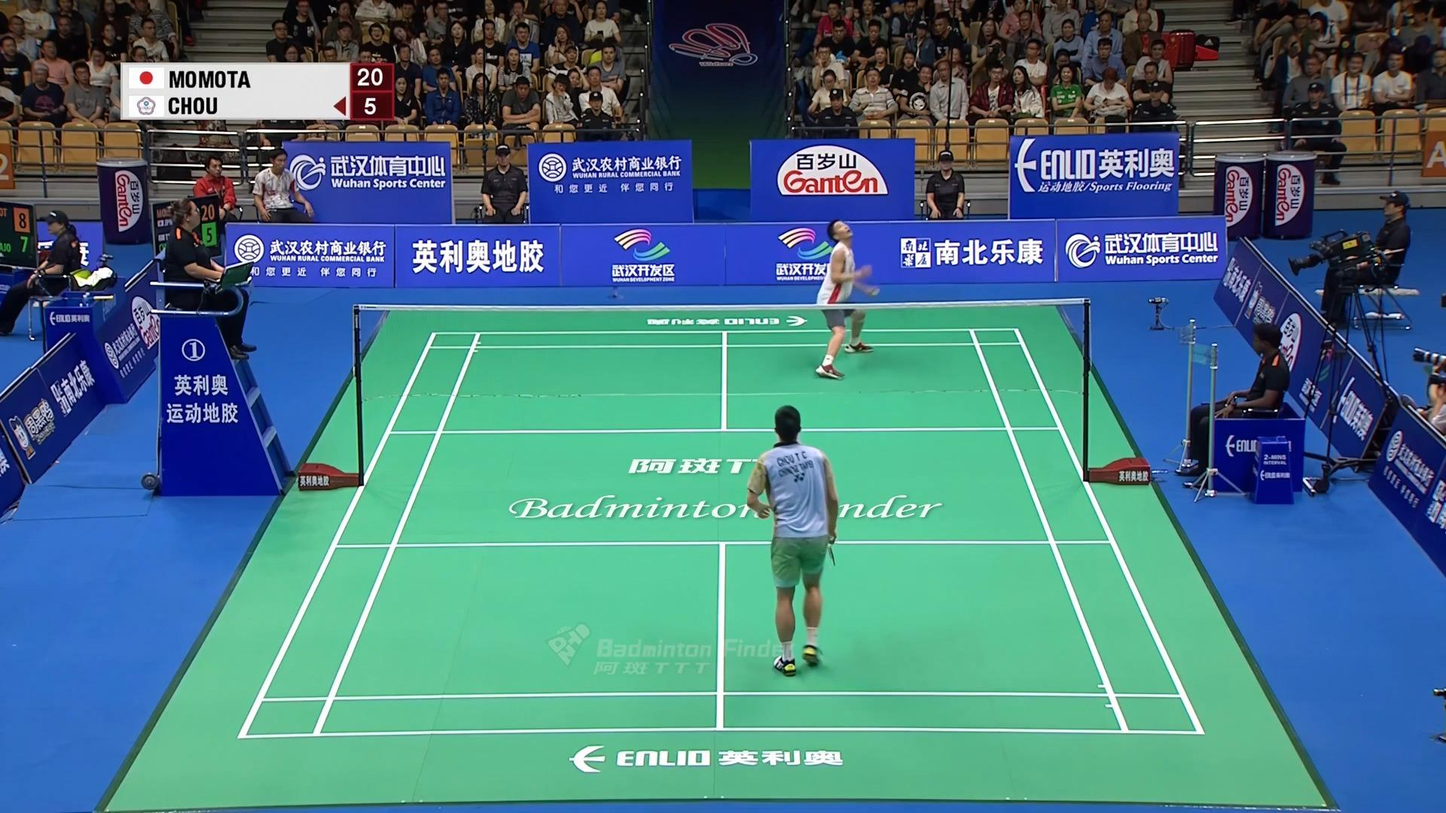player: (745, 407, 840, 674), (816, 219, 877, 379)
